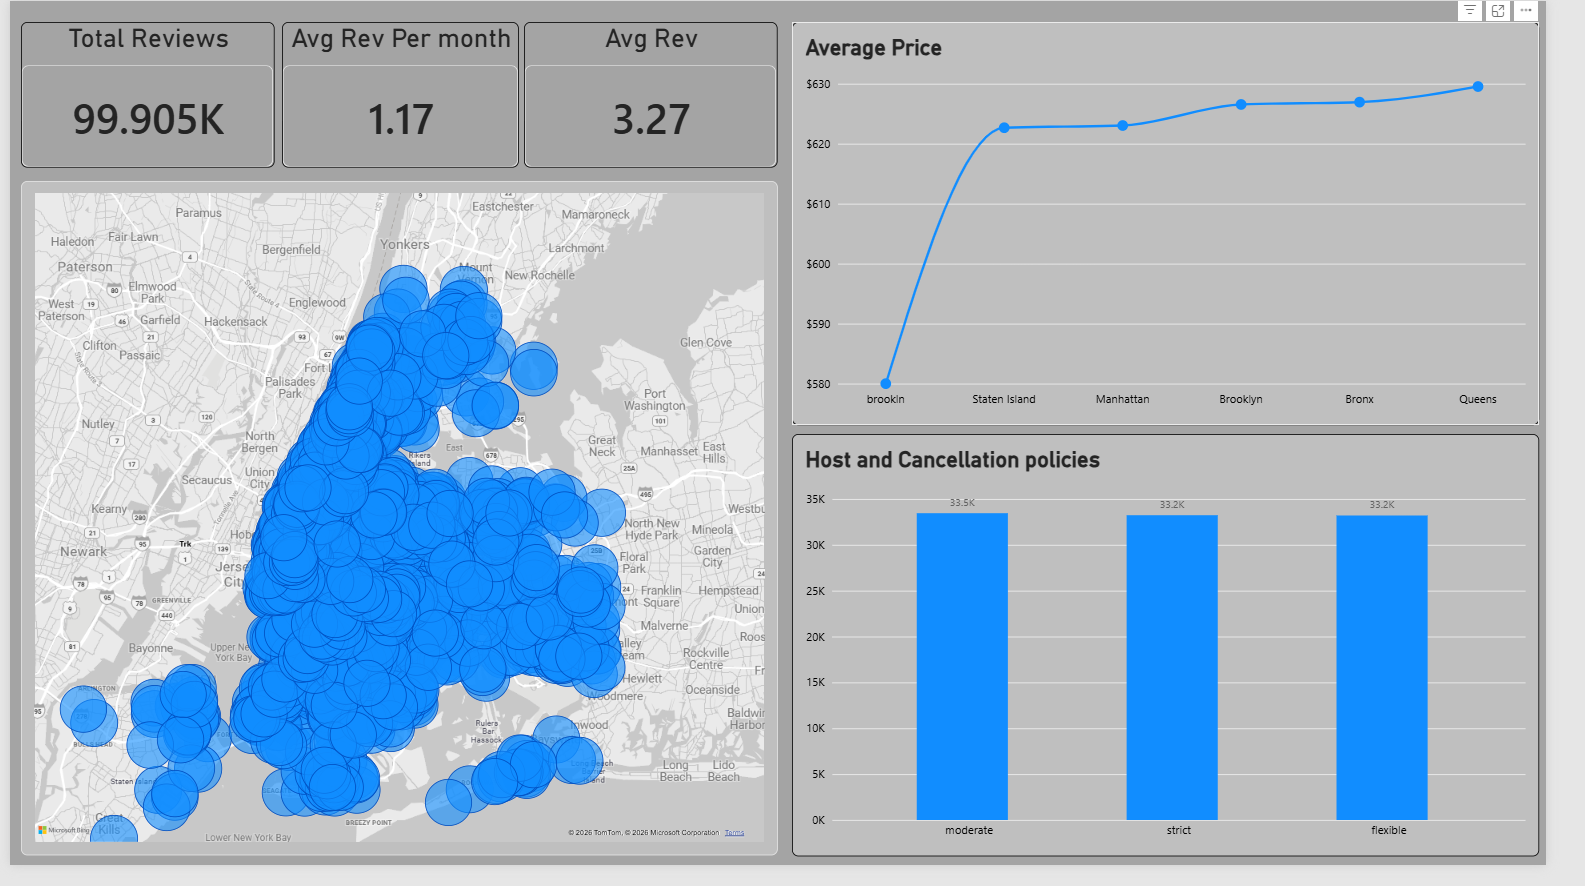

This screenshot's page, from the dashboard's own definition file:
{"tool":"powerbi","page":{"name":"Location and policies","canvas":[1920,1080],"ordinal":2},"visuals":[{"type":"clusteredColumnChart","title":"Host and Cancellation policies","fields":{"Category":["public data_clean.cancellation_policy"],"Y":["CountNonNull(public data_clean.host_id)"]},"box":[978.1,540.8,941.9,539.5],"z":0},{"type":"lineChart","title":"Average Price","fields":{"Category":["public data_clean.neighbourhood_group"],"Y":["Avg(public data_clean.price)"]},"box":[978.1,0,941.9,538.2],"z":1000},{"type":"map","title":"Average price","fields":{"Y":["public data_clean.lat"],"X":["public data_clean.long"],"Size":["Avg(public data_clean.price)"]},"box":[0,225.1,978.1,855.2],"z":2000},{"type":"cardVisual","title":"Total Reviews","fields":{"Data":["CountNonNull(public data_clean.number_of_reviews)"]},"box":[14.2,25.9,317,182.4],"z":3000},{"type":"cardVisual","title":"Avg Rev","fields":{"Data":["Avg(public data_clean.review_rate_number)"]},"box":[643,25.9,317,182.4],"z":4000},{"type":"cardVisual","title":"Avg Rev Per month","fields":{"Data":["Avg(public data_clean.reviews_per_month)"]},"box":[340.3,25.9,296.3,182.4],"z":5000}]}

Visuals, with their boxes on the page's 1920x1080 design canvas (x1, y1, x2, y2). These are canvas units, not pixel positions in the 1585x886 screenshot, which may show the page scaled, cropped or inside an application window:
"Host and Cancellation policies" clusteredColumnChart: (978, 541, 1920, 1080)
"Average Price" lineChart: (978, 0, 1920, 538)
"Average price" map: (0, 225, 978, 1080)
"Total Reviews" cardVisual: (14, 26, 331, 208)
"Avg Rev" cardVisual: (643, 26, 960, 208)
"Avg Rev Per month" cardVisual: (340, 26, 637, 208)
